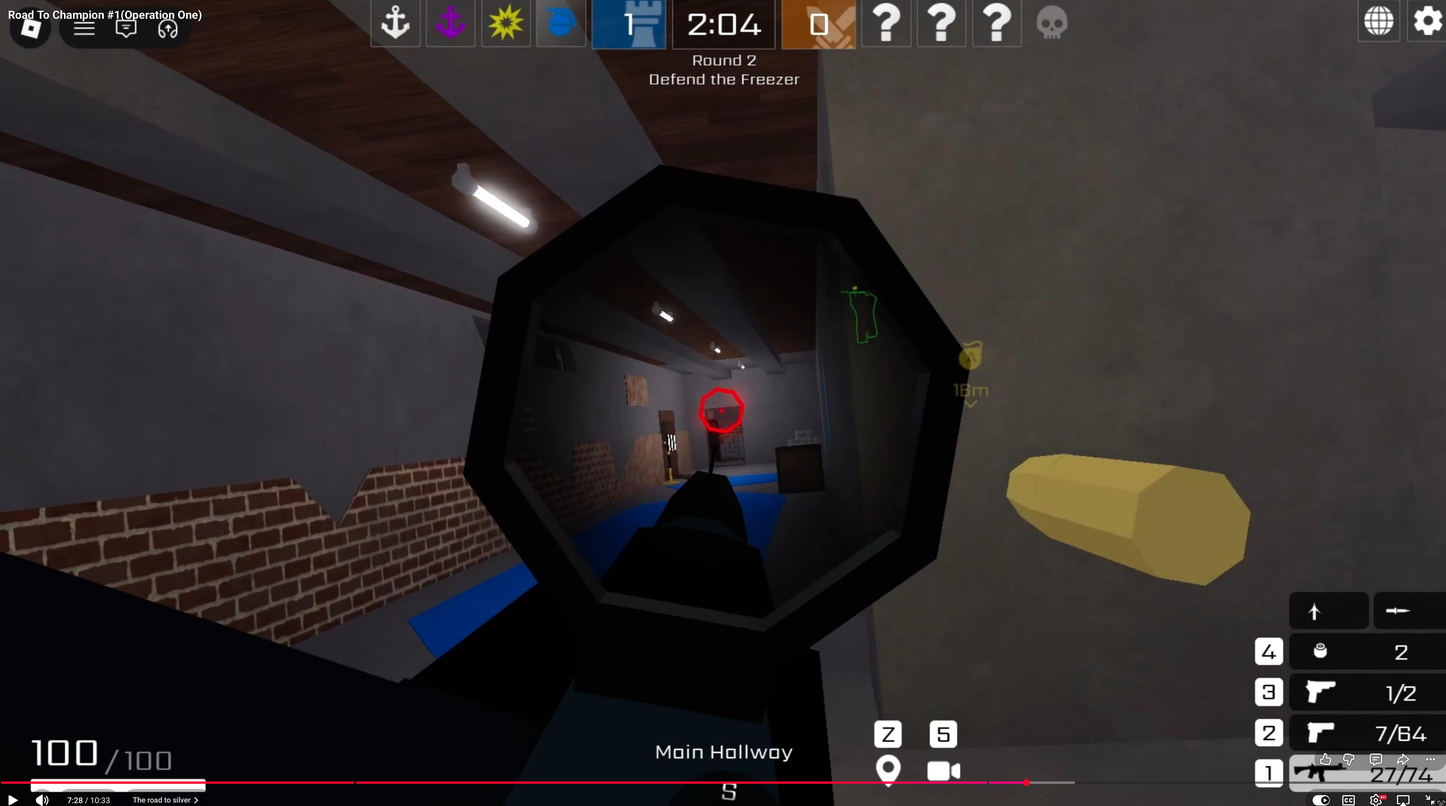enemy: (705, 413, 723, 478)
